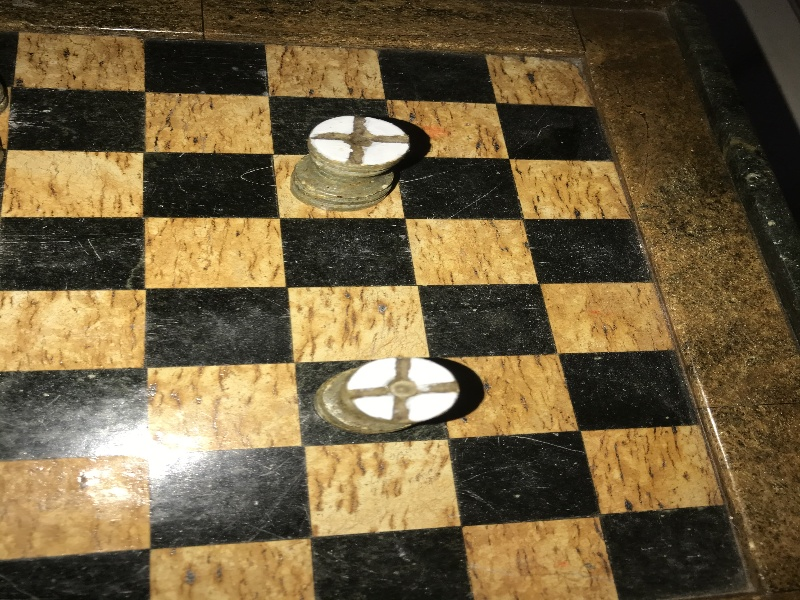WhiteBishop: (291, 114, 409, 213), (315, 358, 458, 435)
